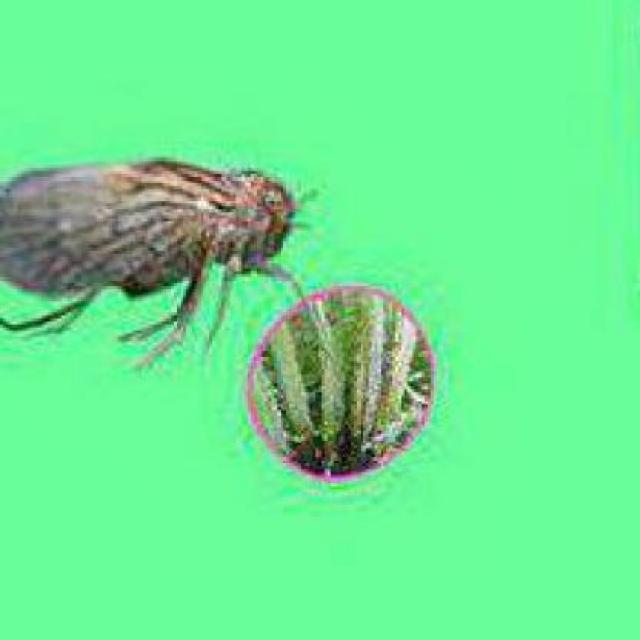brown-planthopper: (3, 152, 308, 307)
